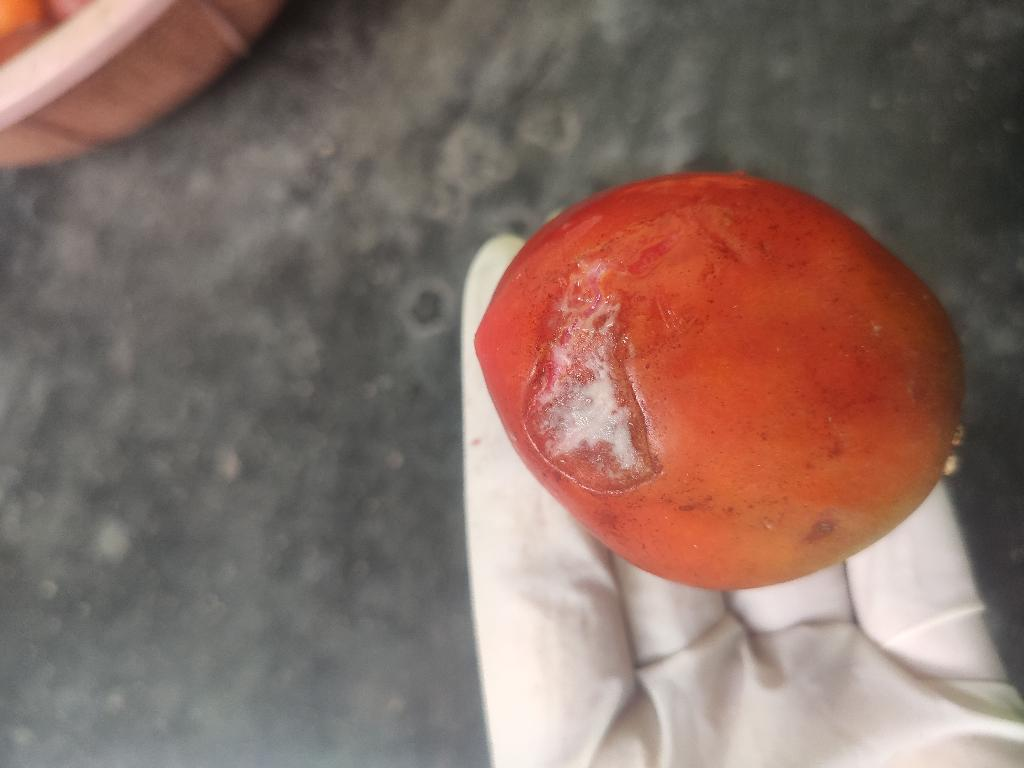surface_damage: (524, 194, 699, 490)
tomato: (476, 174, 963, 589)
